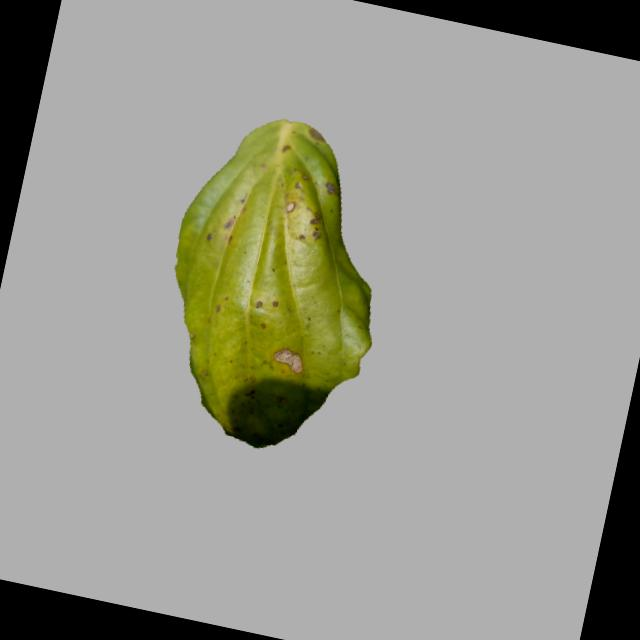yellow-mottle-virus: (128, 92, 418, 462)
